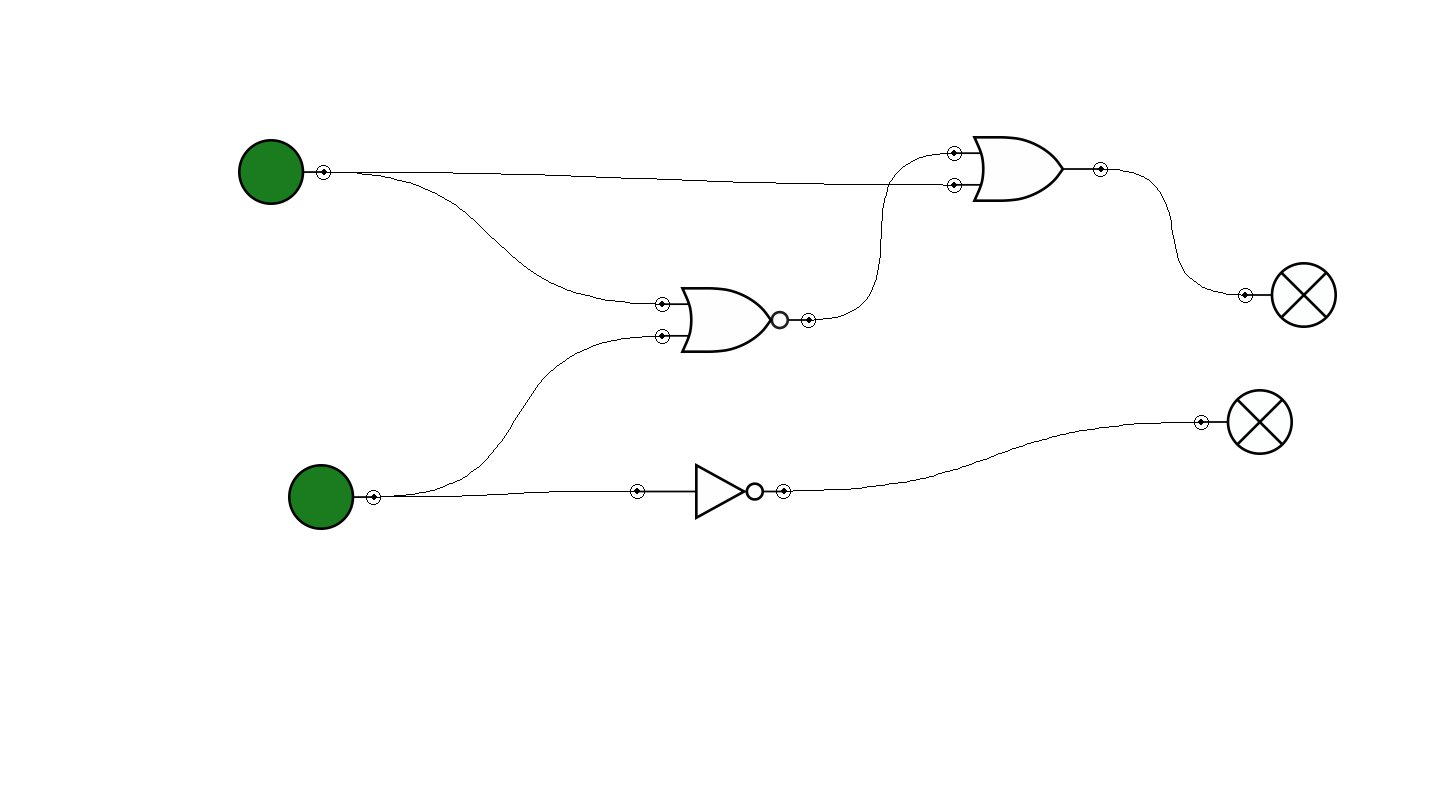bulb: (1238, 262, 1337, 328), (1194, 389, 1293, 455)
nor: (655, 287, 816, 353)
not: (630, 463, 791, 520)
or: (947, 136, 1108, 202)
switch_True: (238, 139, 331, 205), (288, 464, 381, 530)
